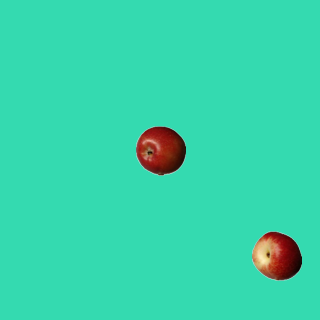Apple Braeburn: (135, 125, 185, 175)
Nectarine: (251, 230, 301, 280)
